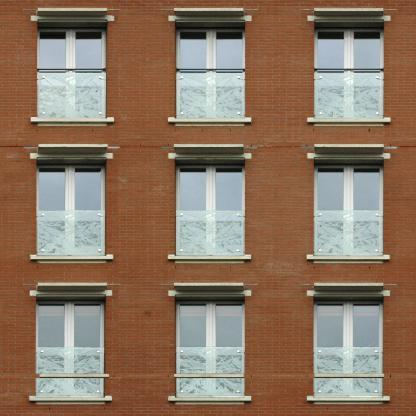Building Outline: (0, 0, 415, 416)
Cornice: (307, 144, 391, 159), (168, 144, 252, 159), (30, 144, 113, 159), (31, 7, 115, 21), (29, 282, 113, 296), (307, 283, 390, 297), (307, 8, 391, 21), (168, 8, 252, 21), (168, 283, 251, 296)
Facade: (0, 0, 415, 416)
Floor: (1, 152, 416, 290), (1, 7, 416, 144), (1, 290, 416, 416)
Floor Slab: (1, 7, 416, 15), (1, 282, 416, 290), (1, 145, 416, 153)
Sill: (307, 117, 391, 126), (168, 117, 252, 126), (30, 117, 114, 126), (306, 396, 390, 405), (168, 396, 252, 405), (28, 396, 112, 405), (306, 254, 390, 263), (167, 254, 251, 263), (29, 254, 113, 263)
Window: (37, 296, 106, 396), (175, 296, 244, 396), (314, 297, 383, 396), (315, 21, 384, 117), (38, 22, 107, 118), (176, 21, 245, 117), (315, 159, 384, 255), (37, 159, 106, 255), (175, 159, 244, 255)
